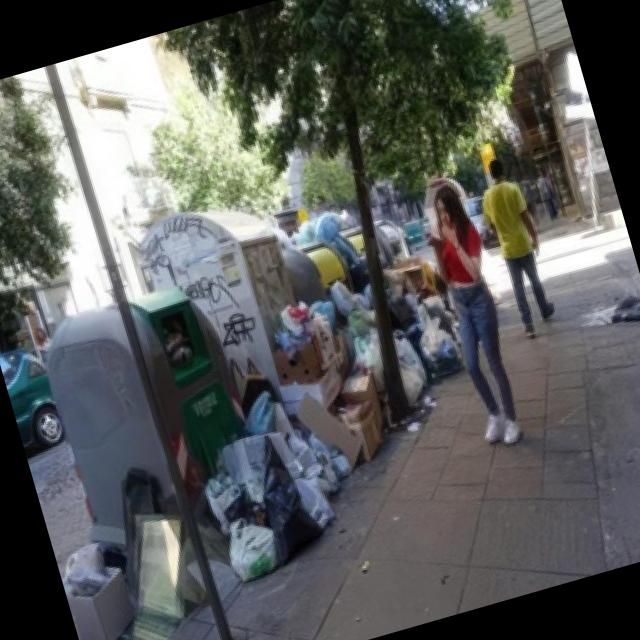high trash: (197, 295, 390, 596), (61, 471, 206, 640), (383, 256, 463, 403)
less trash: (611, 295, 640, 322)
